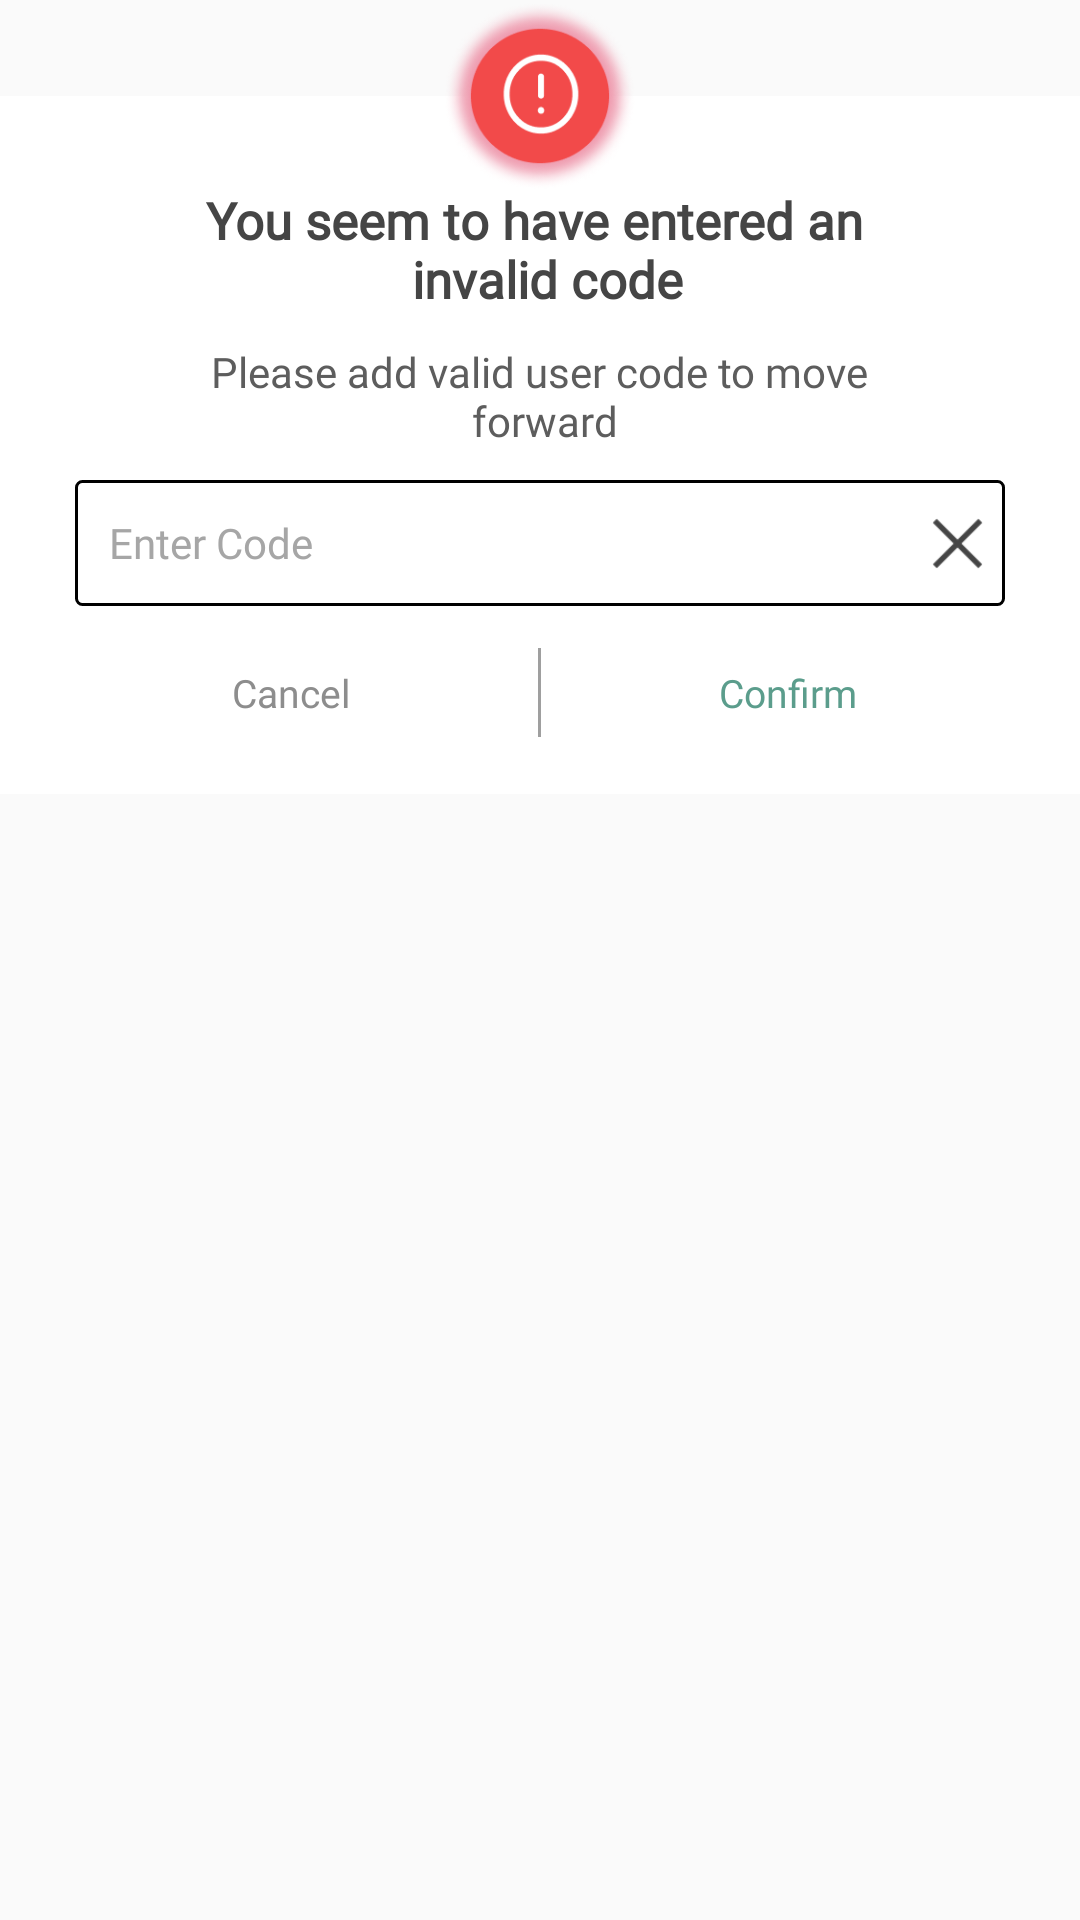

Icons on this 1080px×1920px Android screen, each with the point to tap as point (x, y):
close: point (957, 543)
error: point (539, 95)
